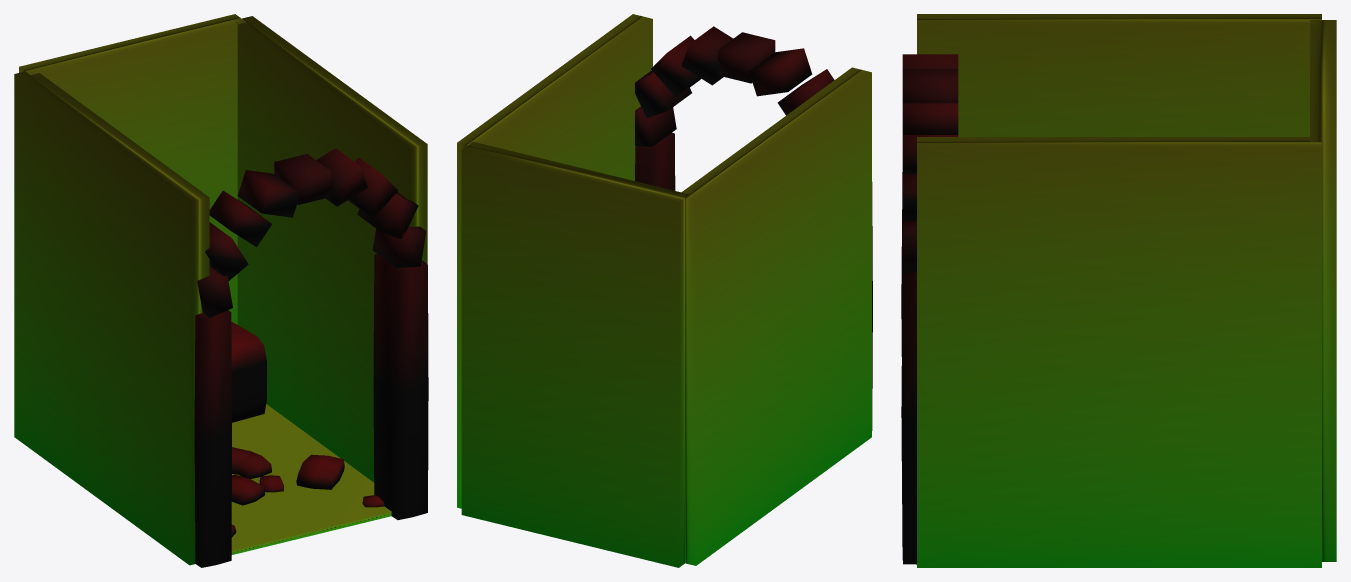
File: matron_alcove.glb
The picture shows the model from 3 angles, left to right: view 1: azimuth 30°, elevation 25°; view 2: azimuth 150°, elevation 25°; view 3: azimuth 270°, elevation 25°; orthographic projection. The views are drawn at different scales.
Parts seen in each view (by area): view 1: matron_alcove; view 2: matron_alcove; view 3: matron_alcove.
Part boxes in pixels (box(x1,y1,x2,y2)): matron_alcove: box(14, 14, 428, 567); matron_alcove: box(457, 14, 872, 567); matron_alcove: box(901, 14, 1336, 567).
Size of what is drawn, in the model's own units: 2.18 by 3.23 by 2.99.
